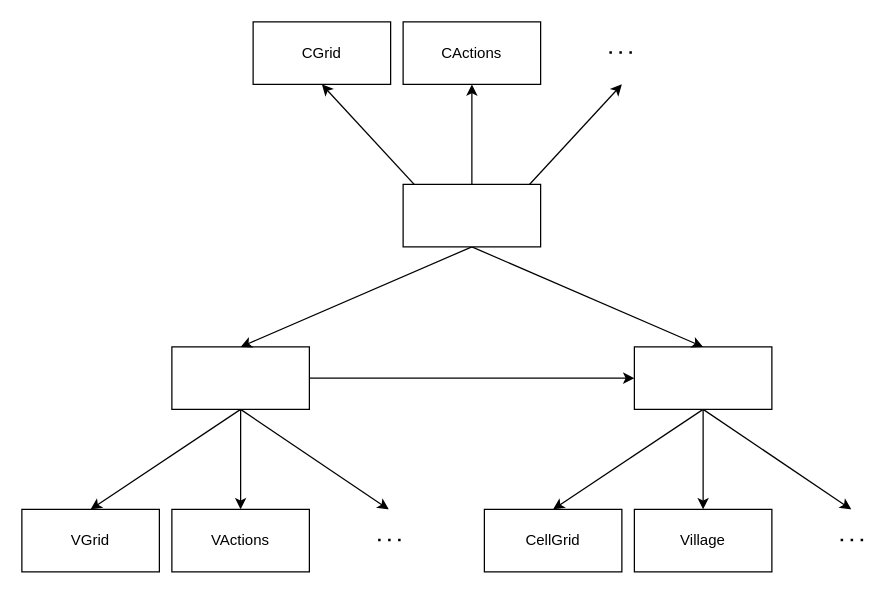
Some shapes in this 890 by 594 pixel diagram are drawn without their labels. Each missing label, with the centre of its shape:
Control: point (471, 215)
Model: point (702, 377)
View: point (240, 377)
